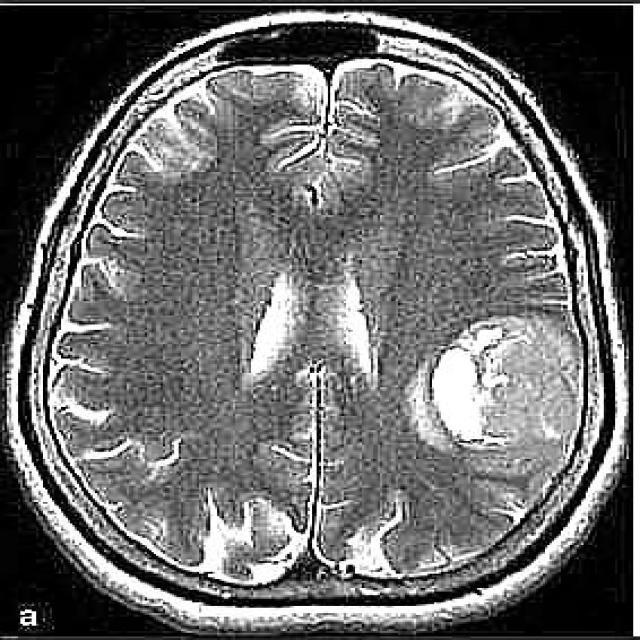Tumor: (400, 305, 592, 478)
